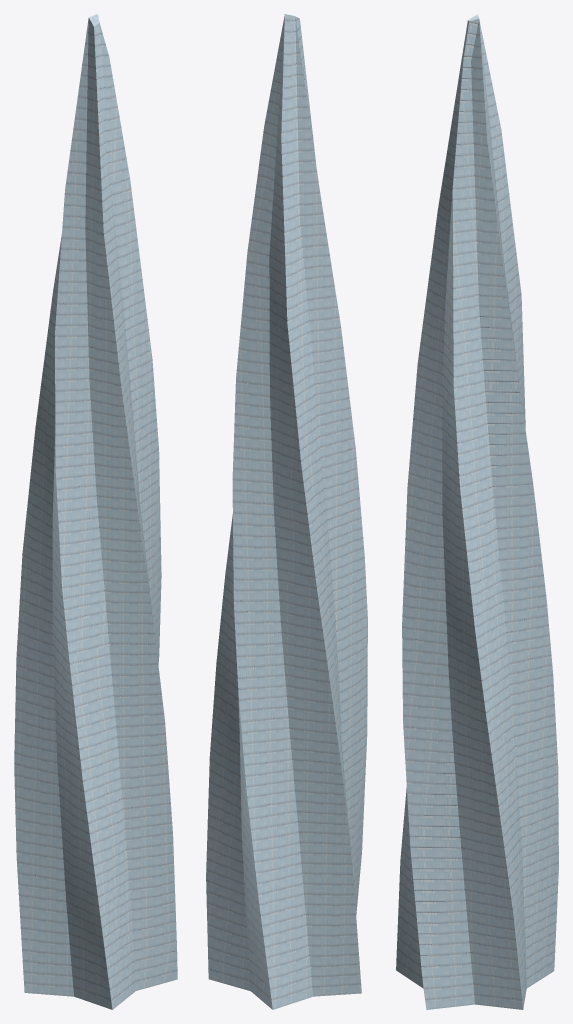
Rendered from Tower_2.FBX.
The picture shows the model from 3 angles, left to right: view 1: azimuth 30°, elevation 25°; view 2: azimuth 150°, elevation 25°; view 3: azimuth 270°, elevation 25°; orthographic projection.
Visible parts, largest first — view 1: Tower_2; view 2: Tower_2; view 3: Tower_2.
Part boxes in pixels (box(x1,y1,x2,y2)): Tower_2: box(14, 14, 177, 1009); Tower_2: box(206, 14, 367, 1009); Tower_2: box(396, 14, 558, 1009).
Size of the model in its own units: 7104 by 46434 by 7106.
